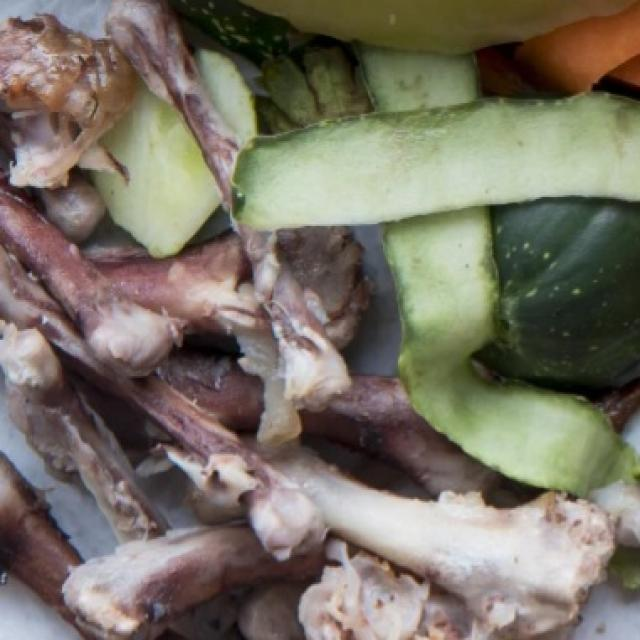food waste: (17, 0, 640, 615)
